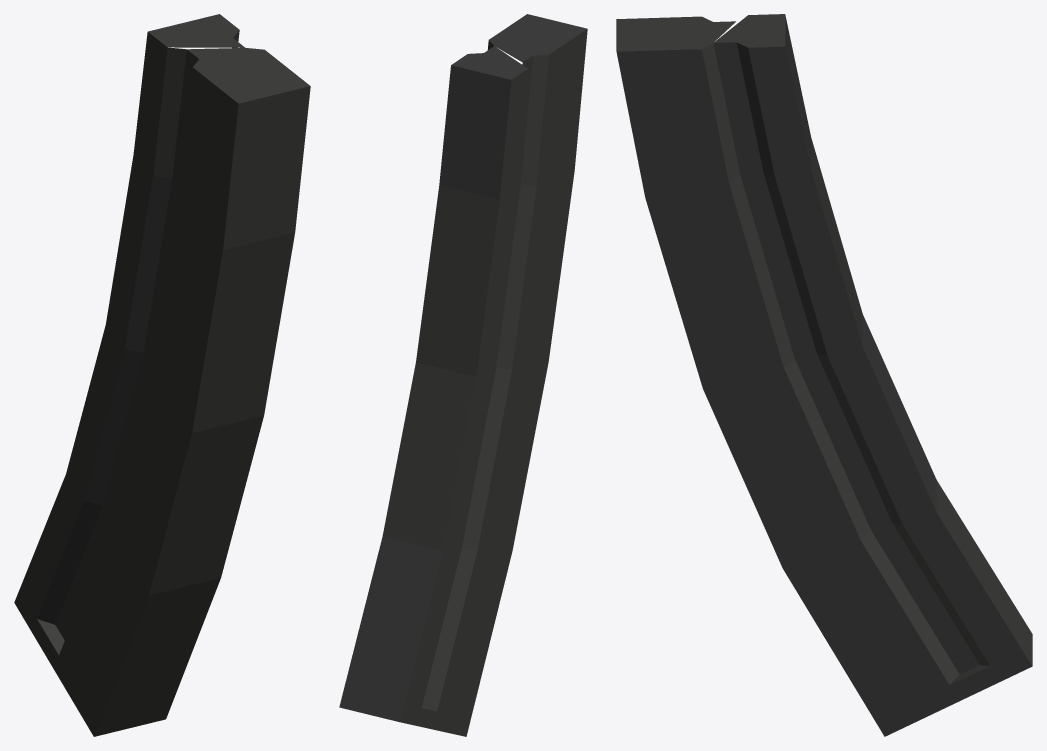
Rendered from 08_mp5_magazine.glb.
The picture shows the model from 3 angles, left to right: view 1: azimuth 30°, elevation 25°; view 2: azimuth 150°, elevation 25°; view 3: azimuth 270°, elevation 25°; orthographic projection. The views are drawn at different scales.
Visible parts, largest first — view 1: mp5_magazine; view 2: mp5_magazine; view 3: mp5_magazine.
Part boxes in pixels (x1,y1,x2,y2): mp5_magazine: [14, 14, 310, 736]; mp5_magazine: [339, 14, 587, 736]; mp5_magazine: [616, 14, 1032, 736].
Size of the model in its own units: 0.0196 by 0.1933 by 0.1056.
1 material, 1 textured.
